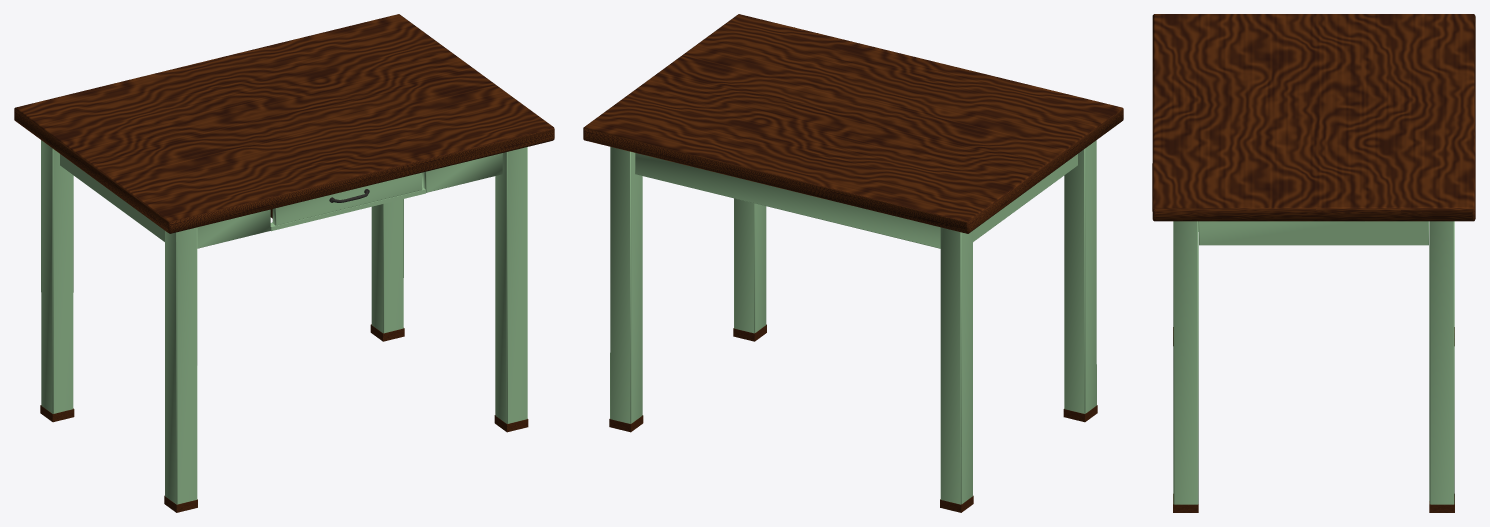
The model's file is kitchen_table.glb.
3 views of the same model, side by side, from view 1: azimuth 30°, elevation 25°; view 2: azimuth 150°, elevation 25°; view 3: azimuth 270°, elevation 25° (orthographic). The views are drawn at different scales.
Visible parts, largest first — view 1: Ahsap_Tabla, Bacak_On_Sol, Bacak_On_Sag, Bacak_Arka_Sol, Bacak_Arka_Sag, Cekmece_On_Kapak, Etek_On_Sag, Etek_On_Sol, Etek_Sol, Cekmece_Alt_Cita; view 2: Ahsap_Tabla, Bacak_Arka_Sol, Bacak_Arka_Sag, Bacak_On_Sol, Etek_Arka, Bacak_On_Sag, Etek_Sol; view 3: Ahsap_Tabla, Bacak_On_Sag, Bacak_Arka_Sag, Etek_Sag.
Boxes of the visible parts, <box> form: Ahsap_Tabla: <box>14,14,554,233</box>; Bacak_On_Sol: <box>165,227,197,504</box>; Bacak_On_Sag: <box>495,147,527,423</box>; Bacak_Arka_Sol: <box>41,140,73,413</box>; Bacak_Arka_Sag: <box>371,199,403,333</box>; Cekmece_On_Kapak: <box>272,172,422,225</box>; Etek_On_Sag: <box>422,153,502,192</box>; Etek_On_Sol: <box>197,209,270,248</box>; Etek_Sol: <box>60,154,164,241</box>; Cekmece_Alt_Cita: <box>270,187,425,231</box>; Ahsap_Tabla: <box>583,14,1123,233</box>; Bacak_Arka_Sol: <box>940,227,972,504</box>; Bacak_Arka_Sag: <box>610,147,642,423</box>; Bacak_On_Sol: <box>1064,140,1096,413</box>; Etek_Arka: <box>635,153,940,248</box>; Bacak_On_Sag: <box>734,198,766,333</box>; Etek_Sol: <box>973,154,1077,241</box>; Ahsap_Tabla: <box>1152,14,1475,221</box>; Bacak_On_Sag: <box>1173,221,1198,504</box>; Bacak_Arka_Sag: <box>1429,221,1454,504</box>; Etek_Sag: <box>1198,221,1428,245</box>.
Bounding box in the file's own units: 1 × 0.75 × 0.7.
Materials: 4 (1 with a texture image).
